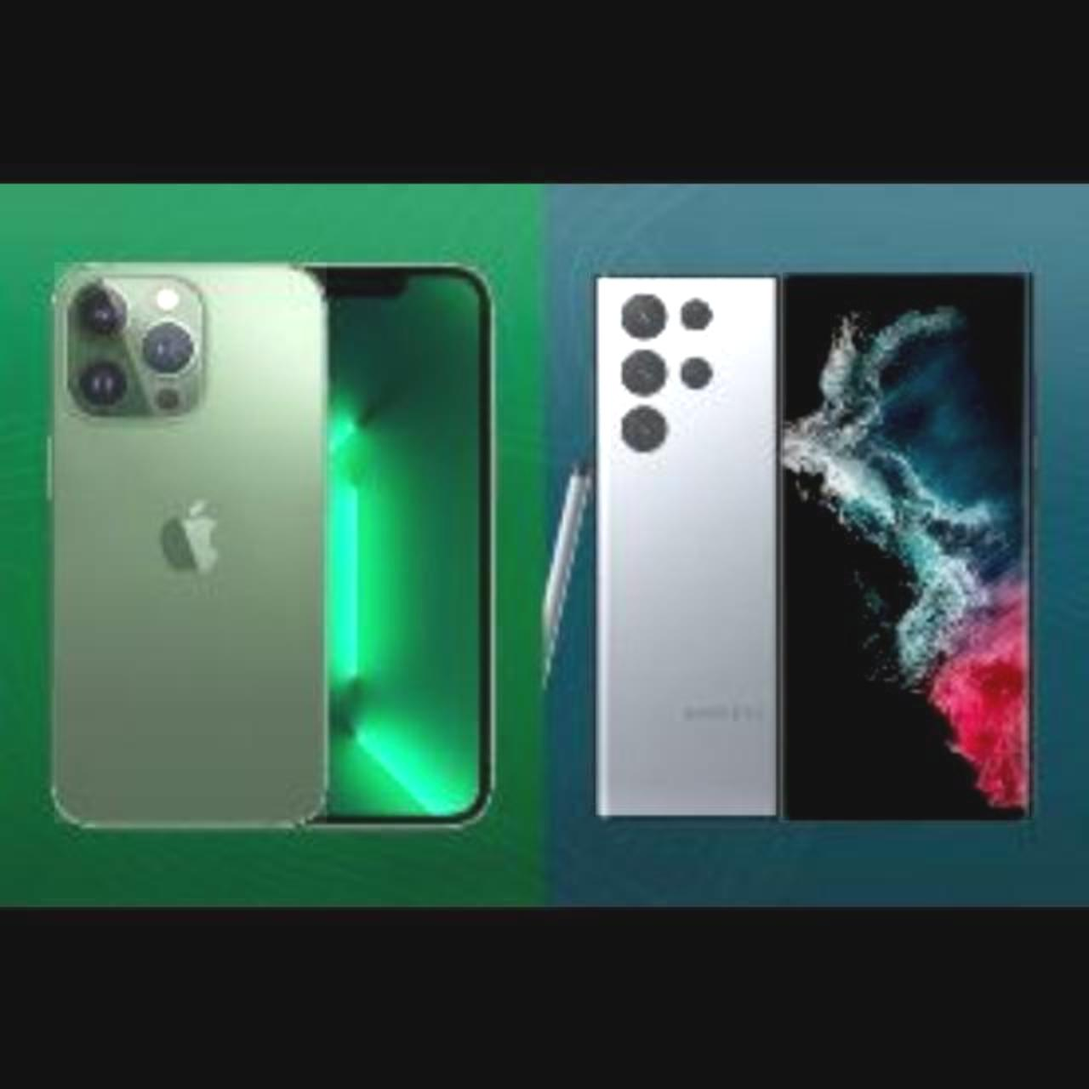phone: (54, 257, 327, 824), (783, 272, 1031, 820), (596, 271, 778, 815), (320, 265, 497, 820)
